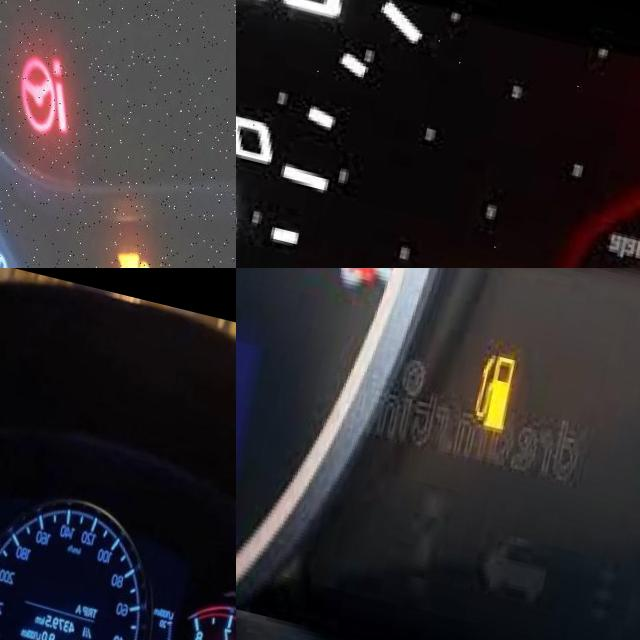Electronic Power Steering: (0, 2, 109, 160)
